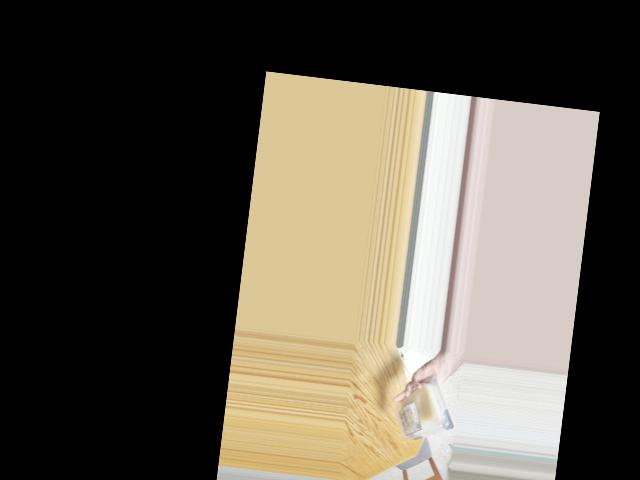cheese: (401, 374, 454, 445)
